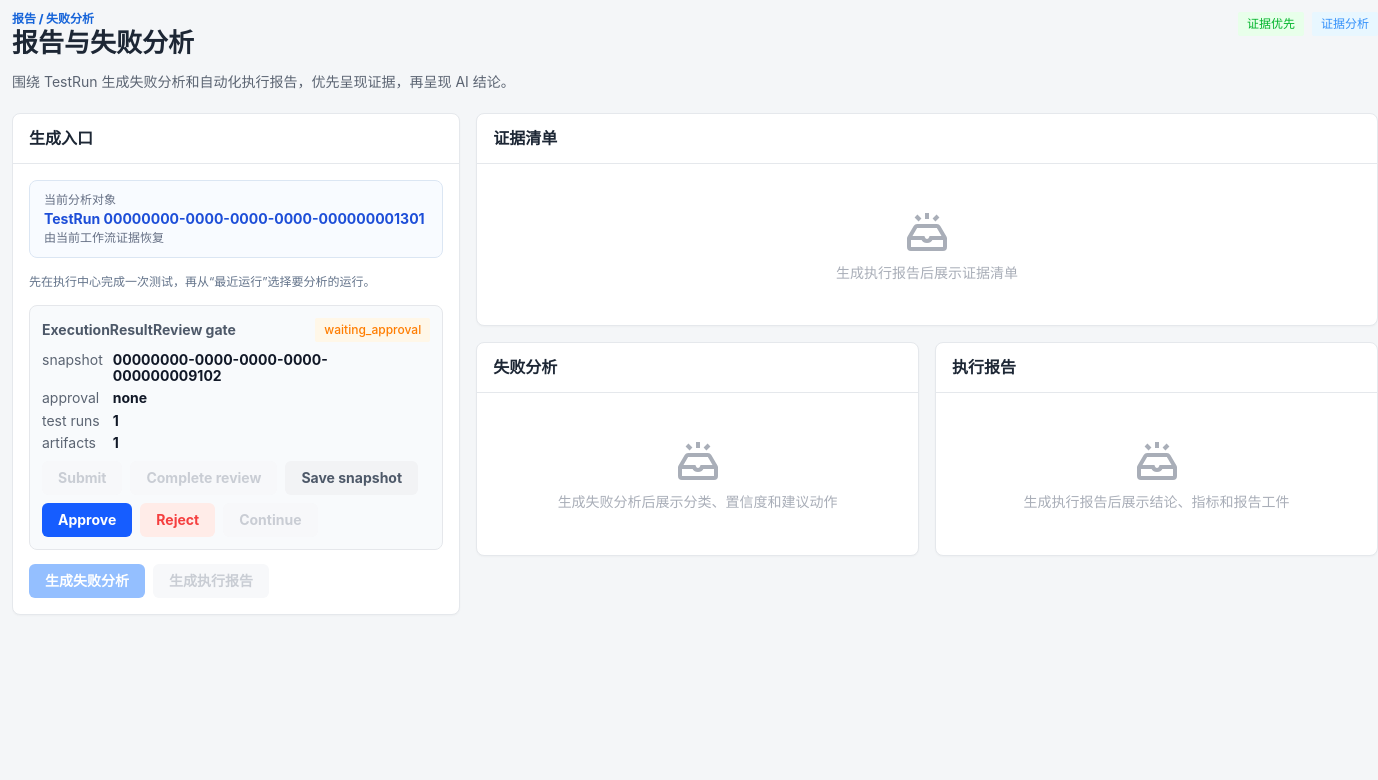
Test: ReportFailureAnalysisView › restores the exact ExecutionResultReview and uses its server lock for actions
Expected: the button with test id "start-failure-analysis" is disabled, [29, 564, 145, 598]
Expected: the button with test id "start-report" is disabled, [153, 564, 269, 598]
Click the button with test id "execution-result-review-approve": (87, 520) [42, 503, 132, 537]
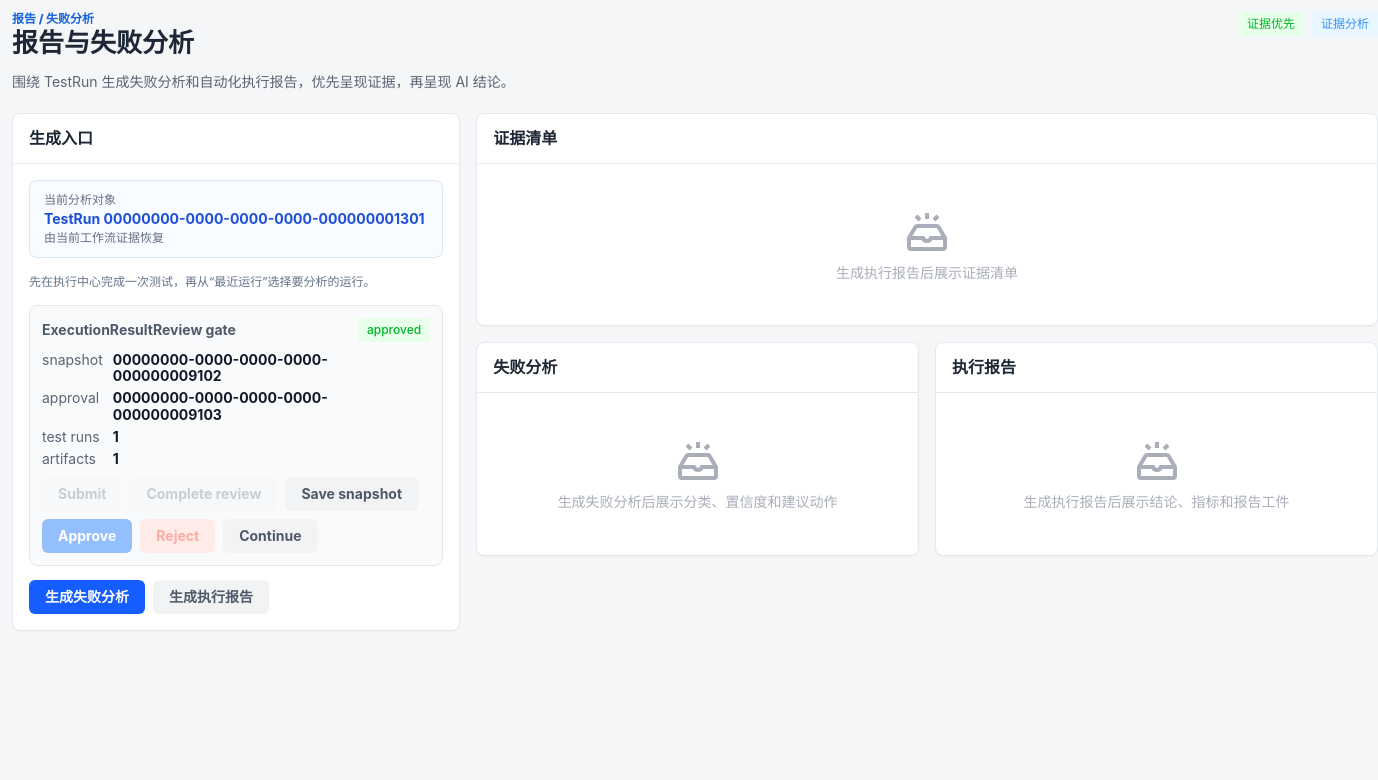
Expected: the button with test id "start-failure-analysis" is enabled, [29, 580, 145, 614]
Expected: the button with test id "start-report" is enabled, [153, 580, 269, 614]
